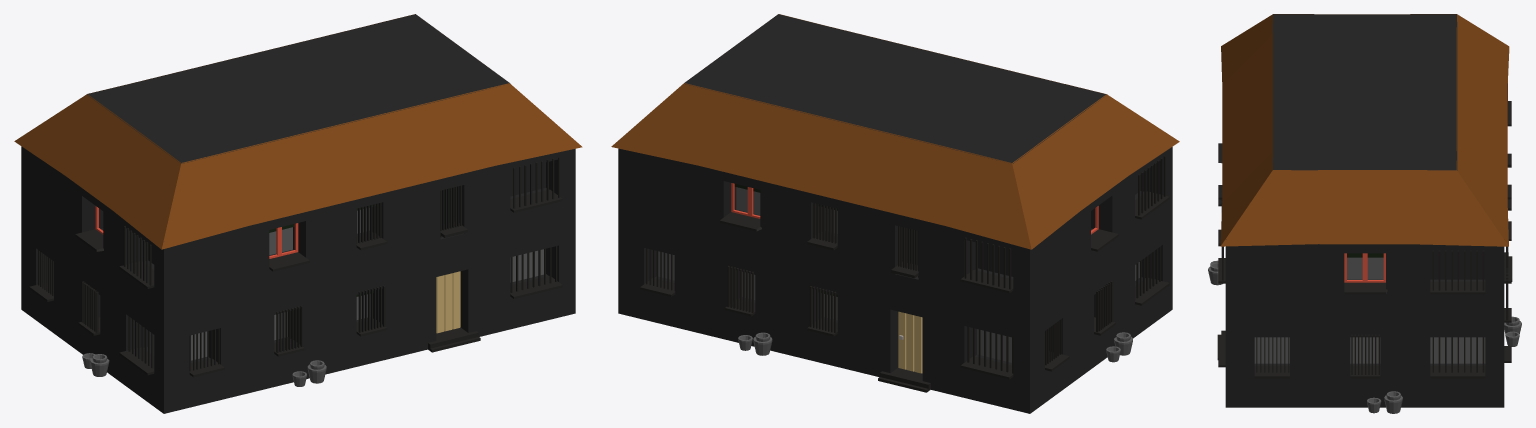
Rendered from CasaProcedural_3.fbx.
3 renders of one model, left to right at view 1: azimuth 30°, elevation 25°; view 2: azimuth 150°, elevation 25°; view 3: azimuth 270°, elevation 25°, orthographic. The views are drawn at different scales.
Visible parts, largest first — view 1: Procedural_Building; view 2: Procedural_Building; view 3: Procedural_Building.
Part boxes in pixels (bbox=[...]): Procedural_Building: bbox=[14, 14, 582, 413]; Procedural_Building: bbox=[611, 14, 1179, 413]; Procedural_Building: bbox=[1208, 14, 1521, 413].
Bounding box in the file's own units: 538 × 259 × 338.
